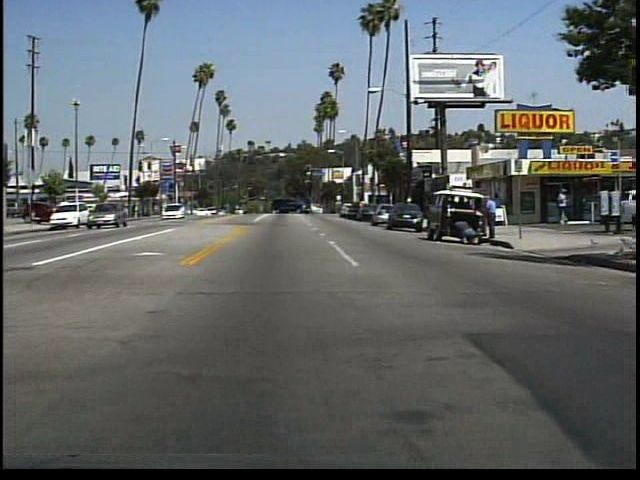person: (482, 191, 502, 242), (453, 217, 478, 248), (556, 186, 572, 229)
